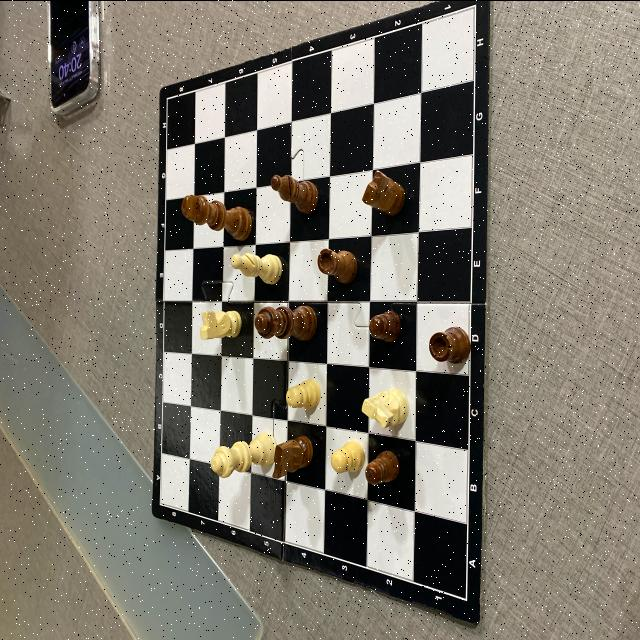Black-Bishop: (270, 172, 320, 214)
Black-King: (180, 192, 253, 240)
Black-Knight: (362, 168, 406, 215), (271, 433, 314, 478)
Black-Pawn: (364, 446, 400, 484), (369, 308, 402, 342)
Black-Queen: (255, 304, 319, 342)
Black-Rook: (428, 325, 472, 364), (317, 245, 359, 282)
White-Bishop: (231, 250, 283, 284)
White-Knight: (361, 388, 408, 428), (198, 308, 242, 340)
White-Pawn: (330, 438, 366, 474), (284, 376, 322, 408)
White-Queen: (210, 430, 276, 478)
